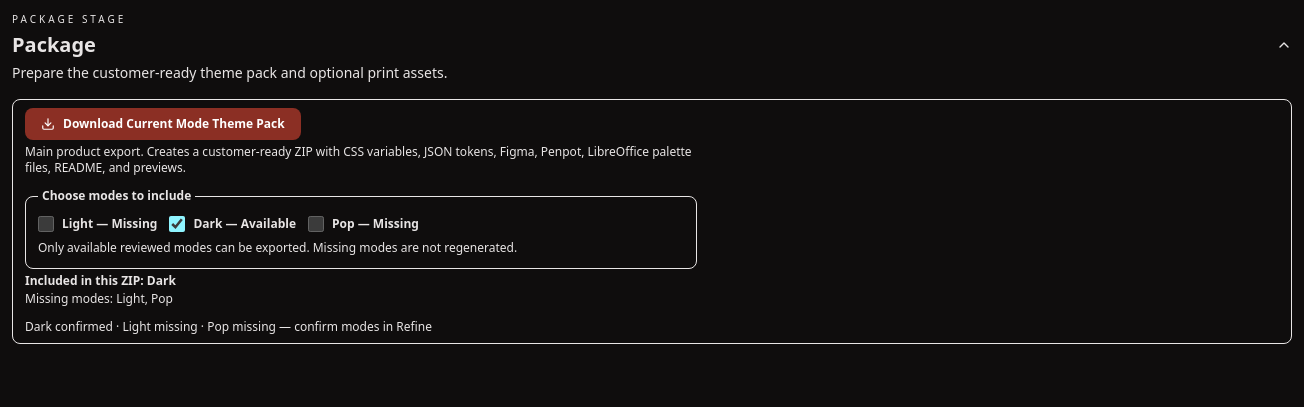
it: PackageStage › shows current-mode-only success after export
Click the button "Download Current Mode Theme Pack". click: [163, 124]
box: [25,108,301,140]
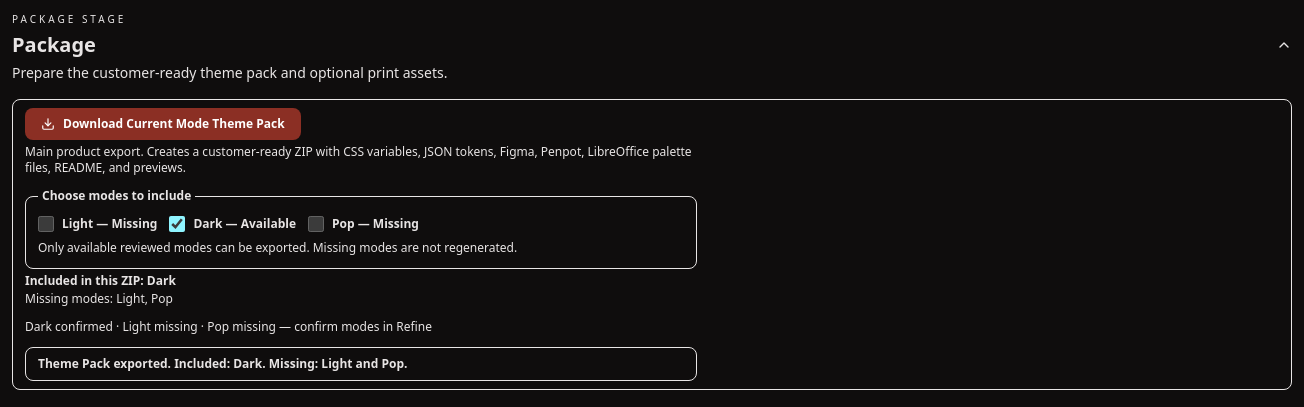
Now the message reads "Theme Pack exported. Included: Dark. Missing: Light and Pop.", box [38,355,407,372]
